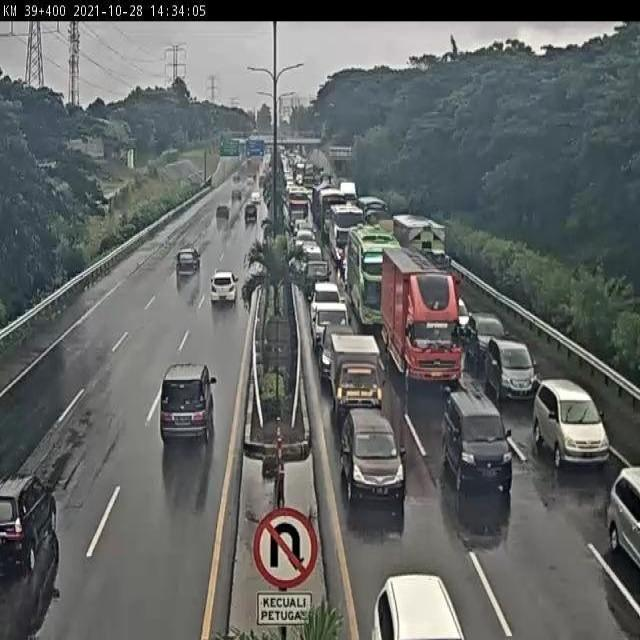Bus: (345, 223, 400, 331), (326, 202, 364, 266)
Car: (533, 376, 611, 465), (339, 408, 406, 511), (371, 572, 469, 638), (210, 270, 239, 304), (176, 247, 201, 276), (244, 202, 258, 224), (216, 204, 230, 220), (232, 188, 242, 202), (251, 191, 261, 205), (232, 173, 240, 182)
Truck: (380, 245, 463, 390), (323, 331, 383, 421), (393, 214, 448, 269), (310, 298, 347, 354)
Van: (441, 386, 512, 495), (161, 362, 216, 442)
